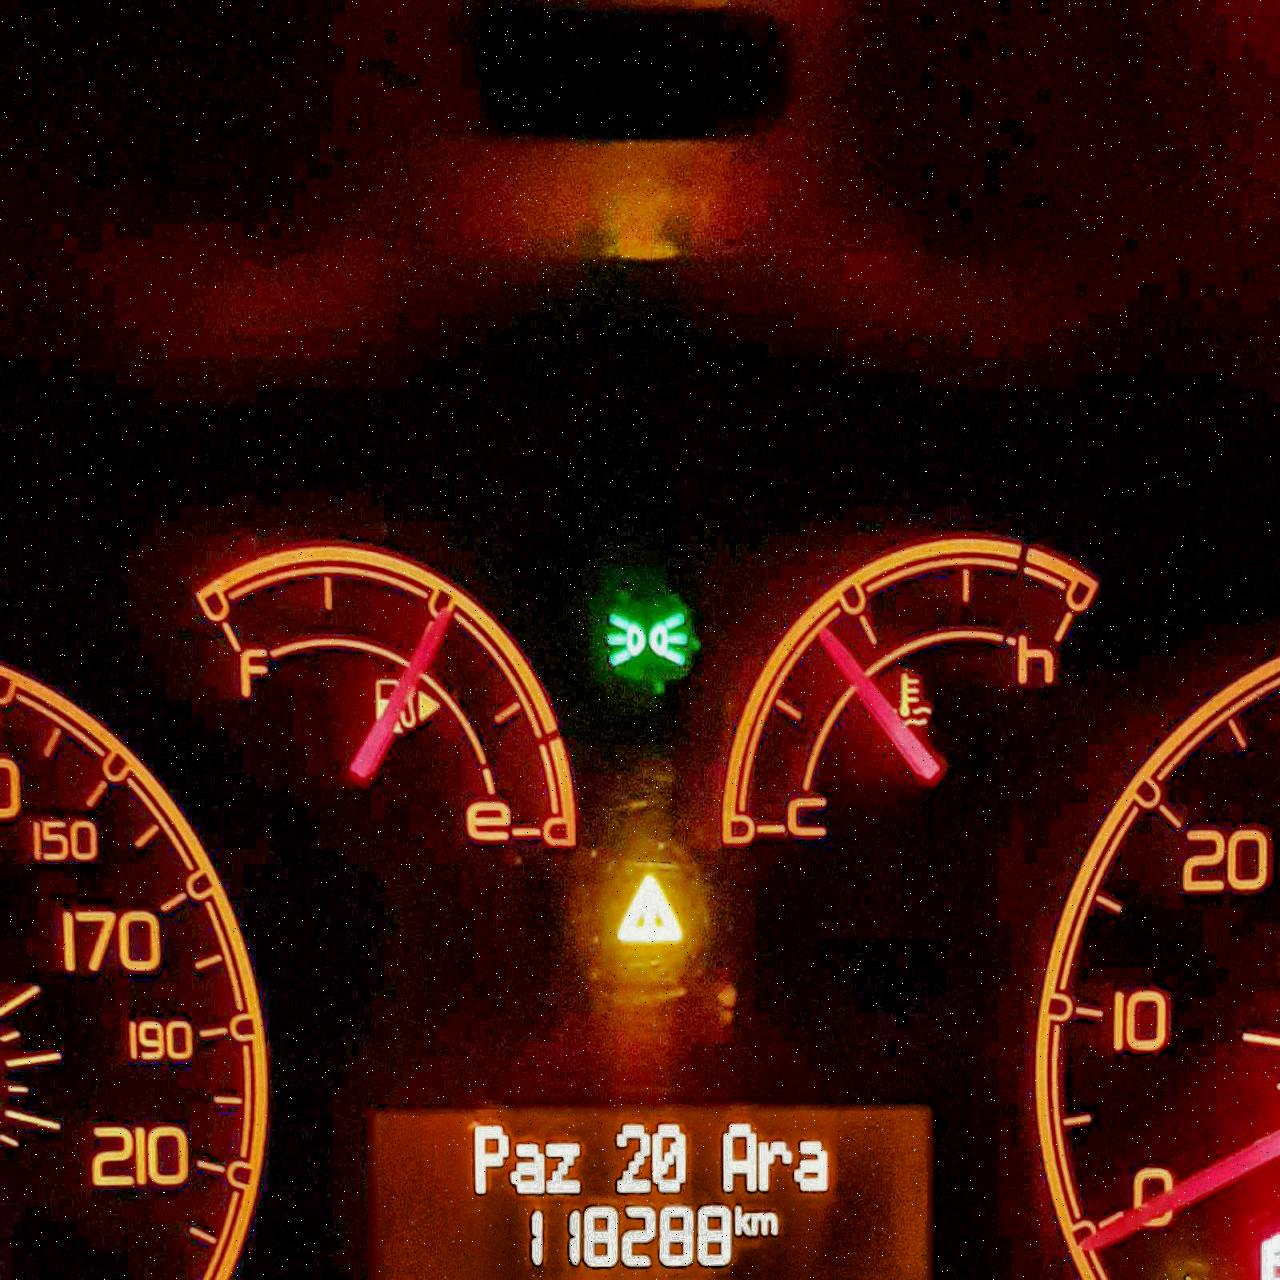0: (651, 1118, 688, 1194)
1: (524, 1201, 547, 1268), (563, 1201, 584, 1272)
2: (611, 1121, 651, 1201), (620, 1203, 654, 1269)
8: (696, 1200, 731, 1269), (659, 1203, 693, 1272), (584, 1201, 617, 1271)
X: (467, 1121, 510, 1201), (719, 1117, 756, 1193), (795, 1133, 833, 1200), (508, 1135, 545, 1198), (544, 1138, 583, 1199), (756, 1136, 790, 1193), (733, 1203, 750, 1242), (753, 1213, 778, 1238)
odometer: (363, 1101, 942, 1273)
